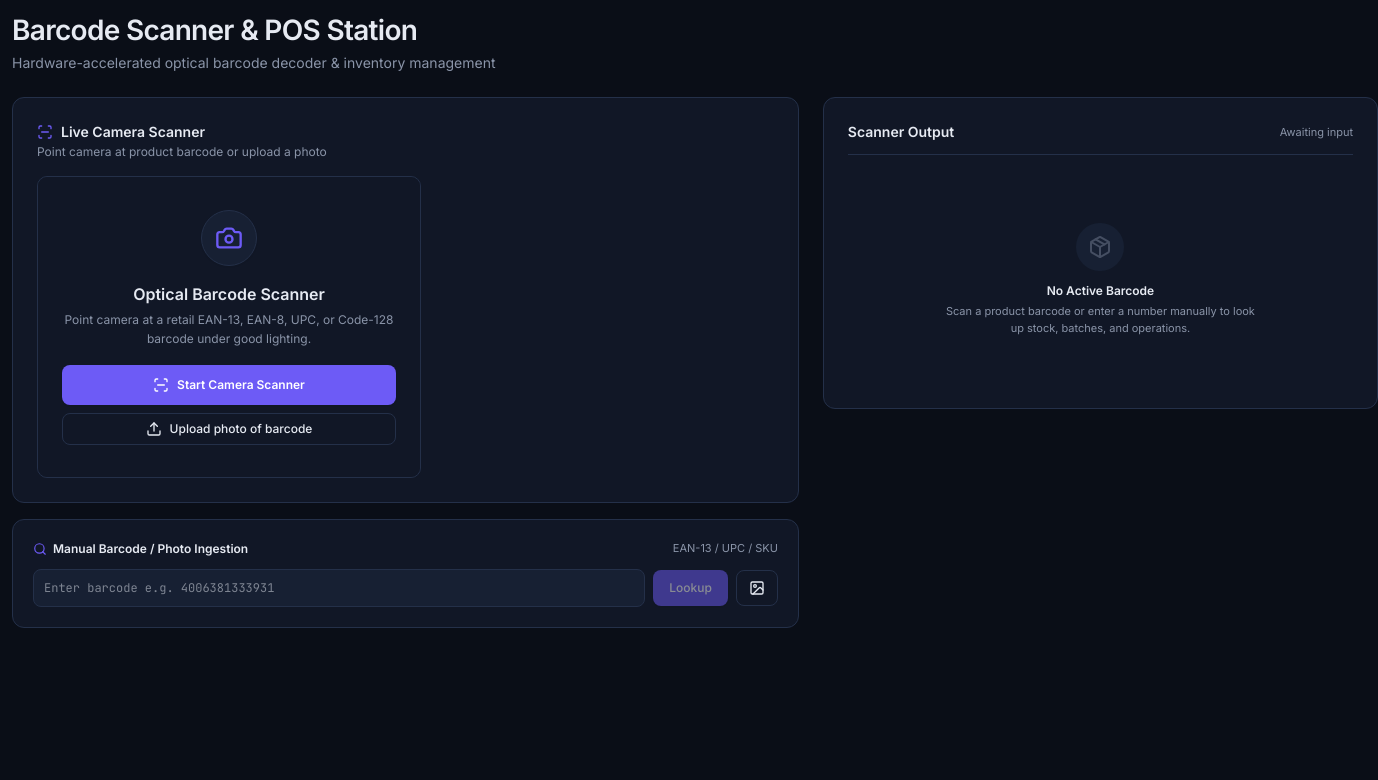
BusinessScanPage Camera Scanner Lifecycle & Diagnostics › clicking Retry Camera re-attempts Html5Qrcode.start()
Click the button "Start Camera Scanner".
click(229, 385)  # box [62,365,396,405]
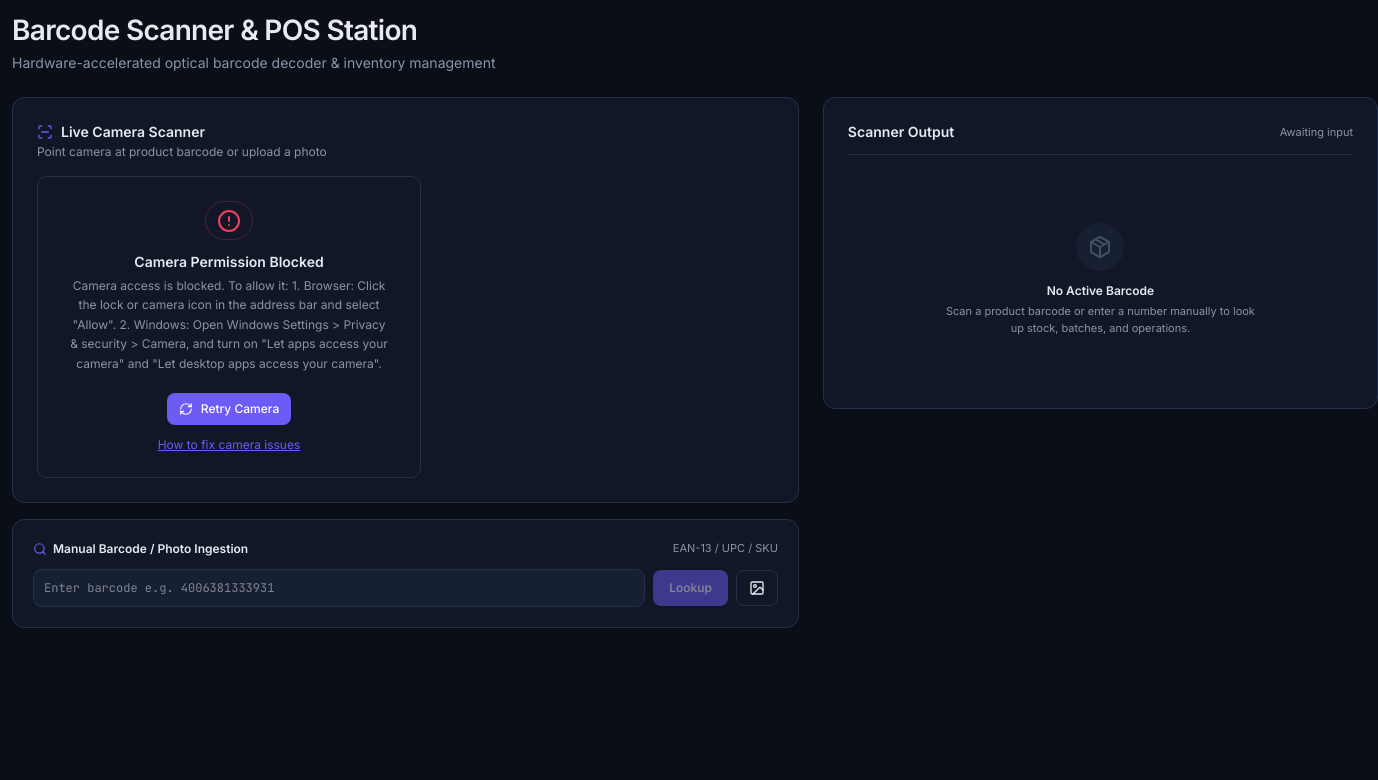
Expected: the button "Retry Camera" is shown
Click the button "Retry Camera".
click(229, 409)  # box [167,393,291,425]
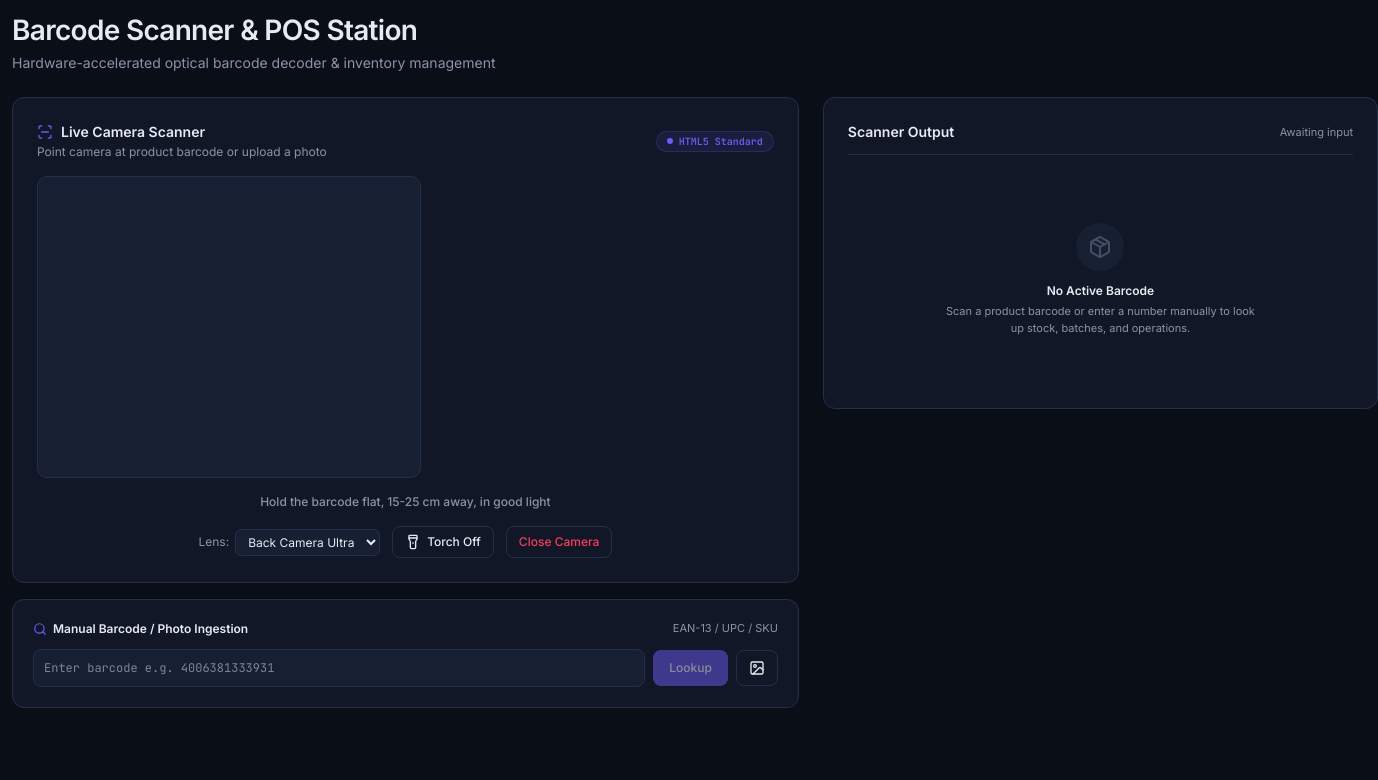
Expected: the button "Close Camera" is shown, [506,526,612,558]
Expected: the heading "Camera Permission Blocked" is gone
